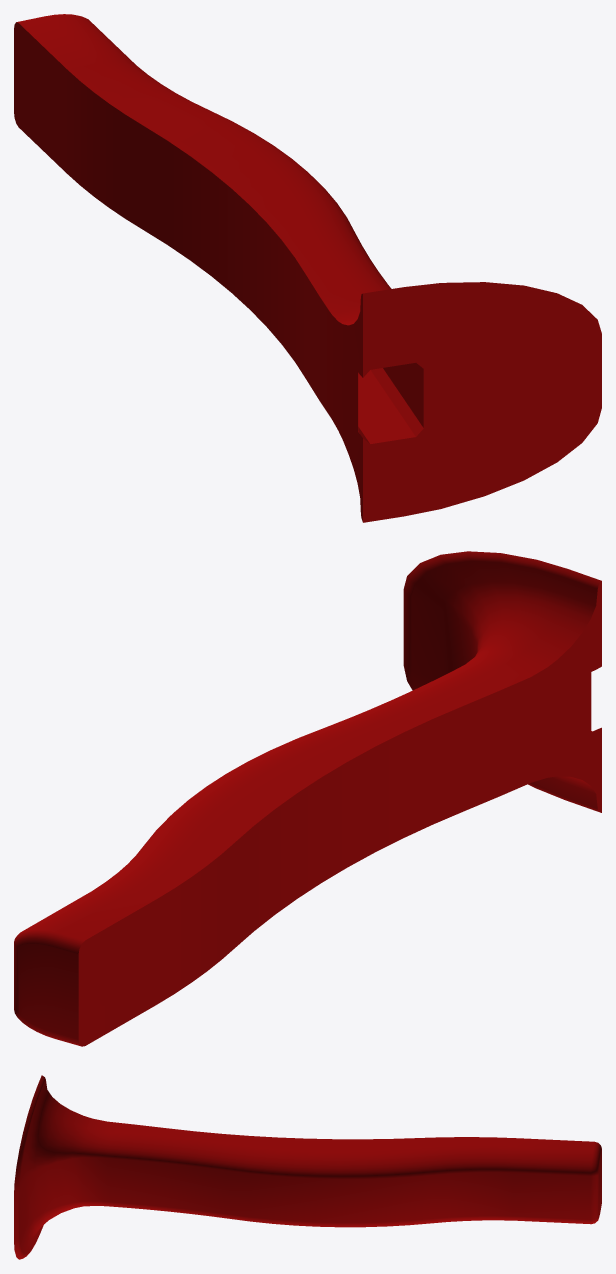
The model's file is original-6.obj.
3 renders of one model, top to bottom at view 1: azimuth 30°, elevation 25°; view 2: azimuth 150°, elevation 25°; view 3: azimuth 270°, elevation 25°, orthographic. The views are drawn at different scales.
Size of the model in its own units: 0.3422 by 0.3449 by 1.24.
